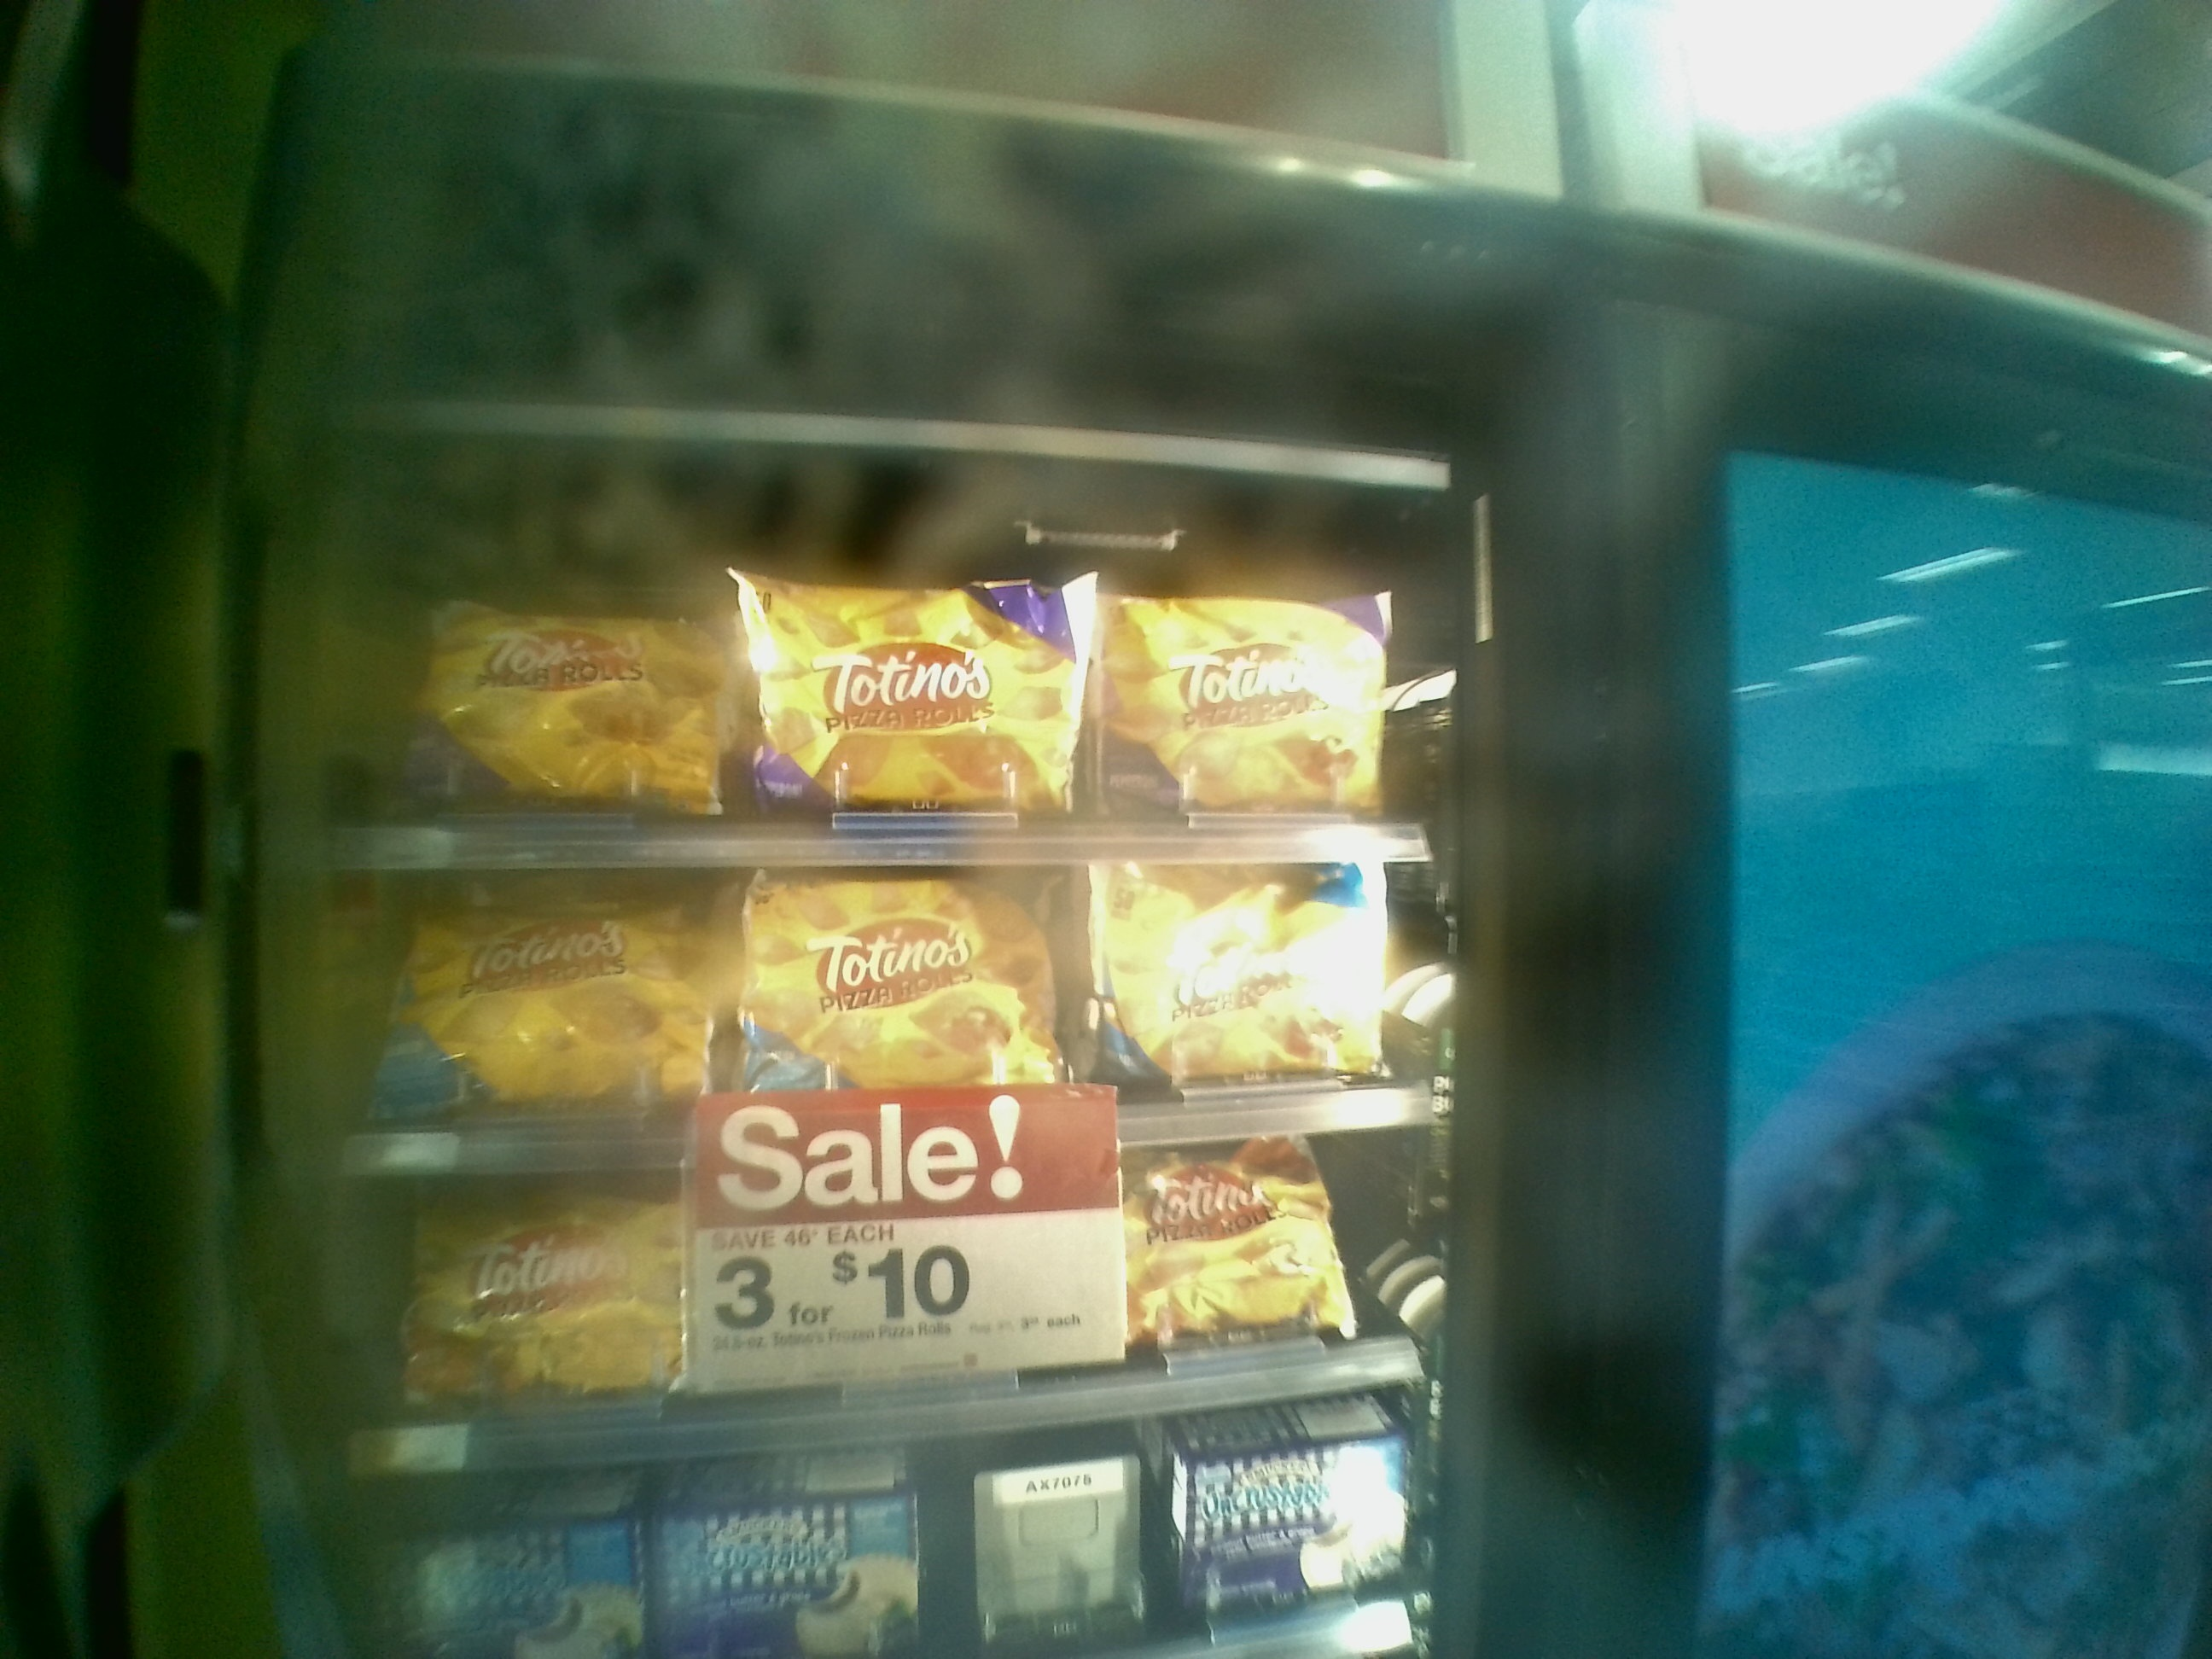shelf: (301, 502, 1428, 850), (341, 843, 1432, 1122), (329, 1134, 1416, 1380)
